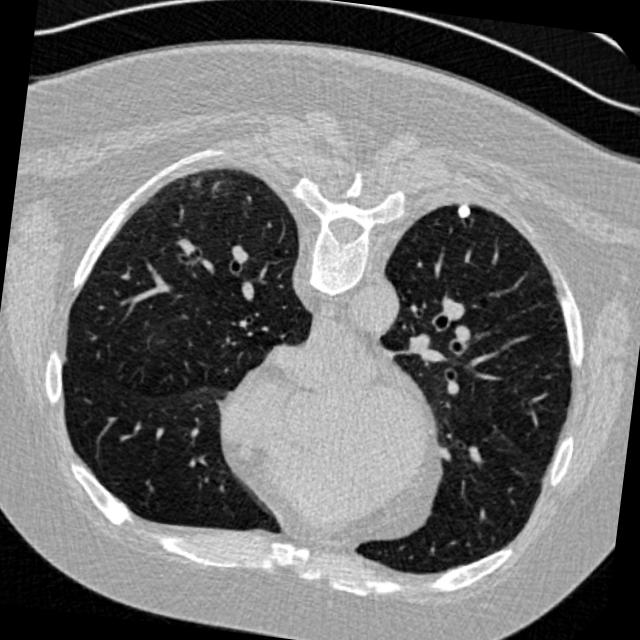nodule: (442, 193, 478, 230)
